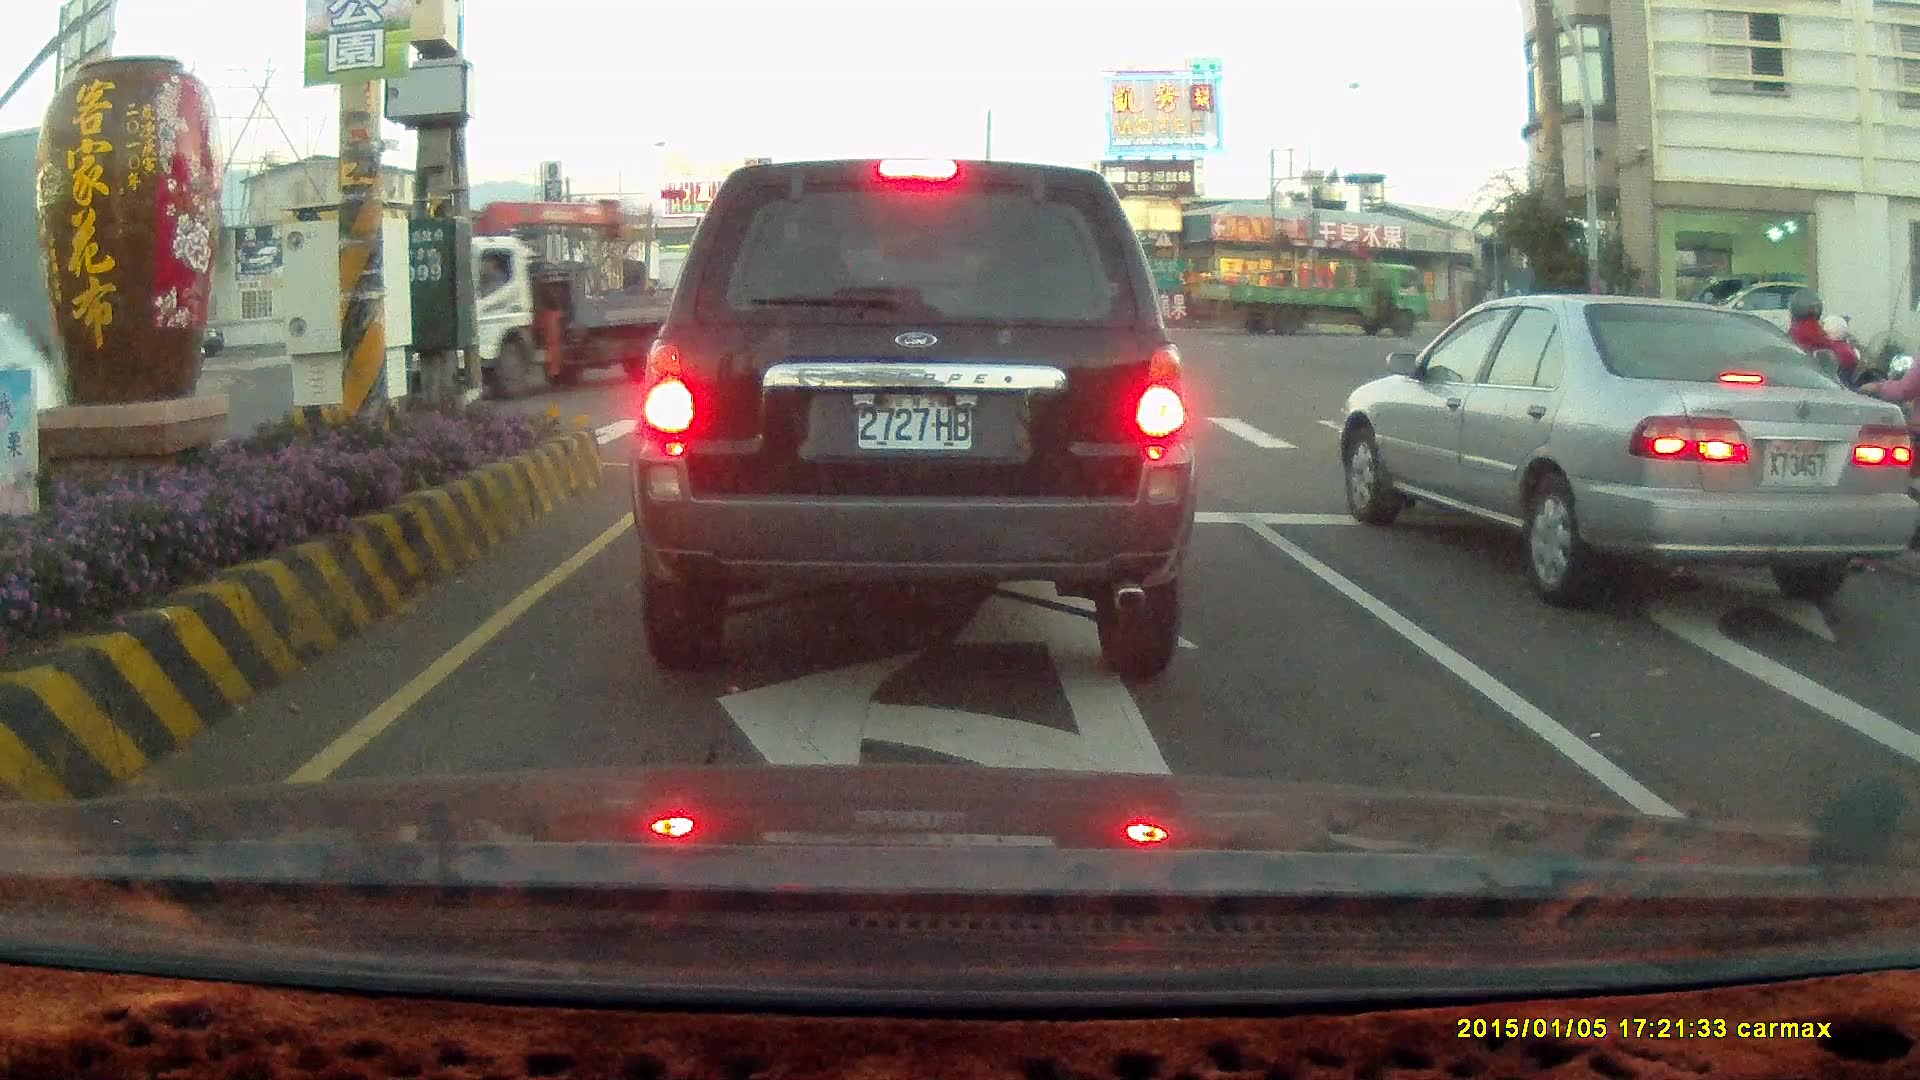rider: (1720, 287, 1860, 543), (1809, 348, 1920, 579)
vehicle: (626, 155, 1197, 680), (1336, 292, 1916, 608), (1351, 296, 1899, 592), (382, 234, 682, 402), (1656, 276, 1854, 372), (1218, 257, 1430, 340), (1668, 275, 1823, 373), (1896, 493, 1920, 836)
